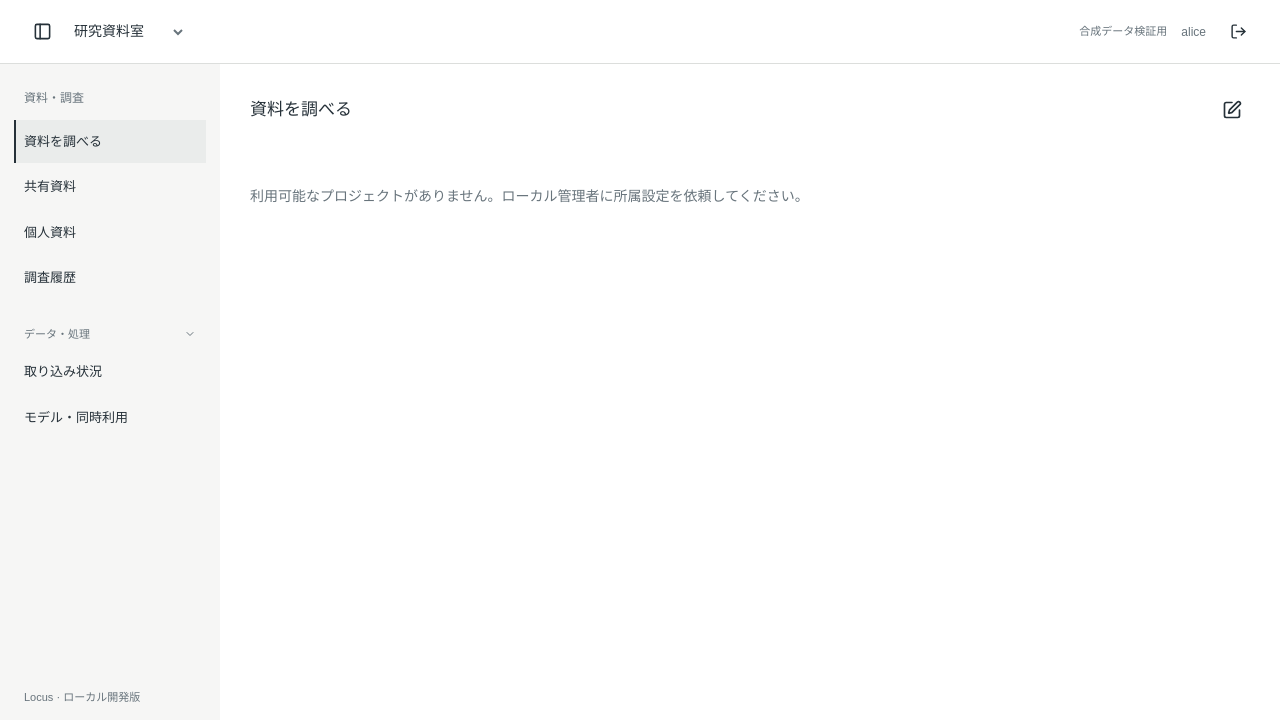
Test: approved chat interaction baseline › preserves the sidebar control and excludes collapsed navigation from focus
The image size is (1280, 720).
Check: the heading "資料を調べる" is shown, box [250,97,352,123]
Step 1. Click the button named "サイドバーを閉じる" → [42, 32], box [24,14,60,50]
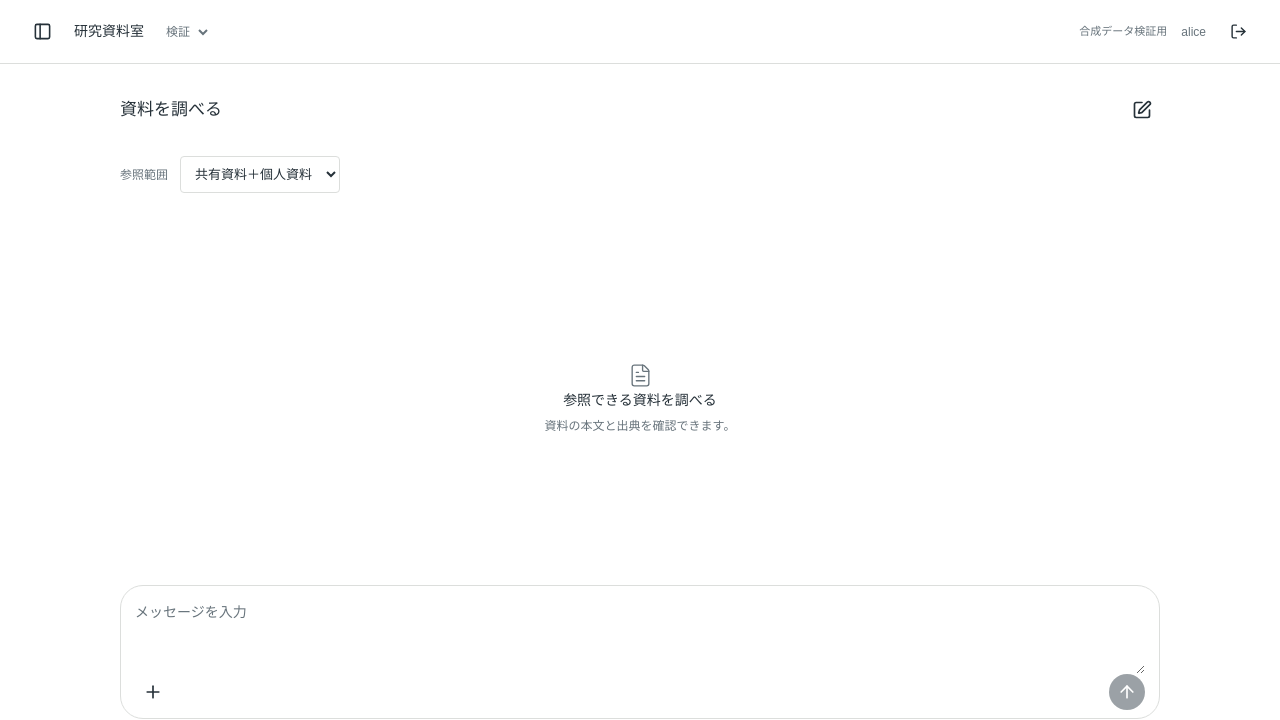
Step 2. Click the button named "サイドバーを開く" → [42, 32], box [24,14,60,50]
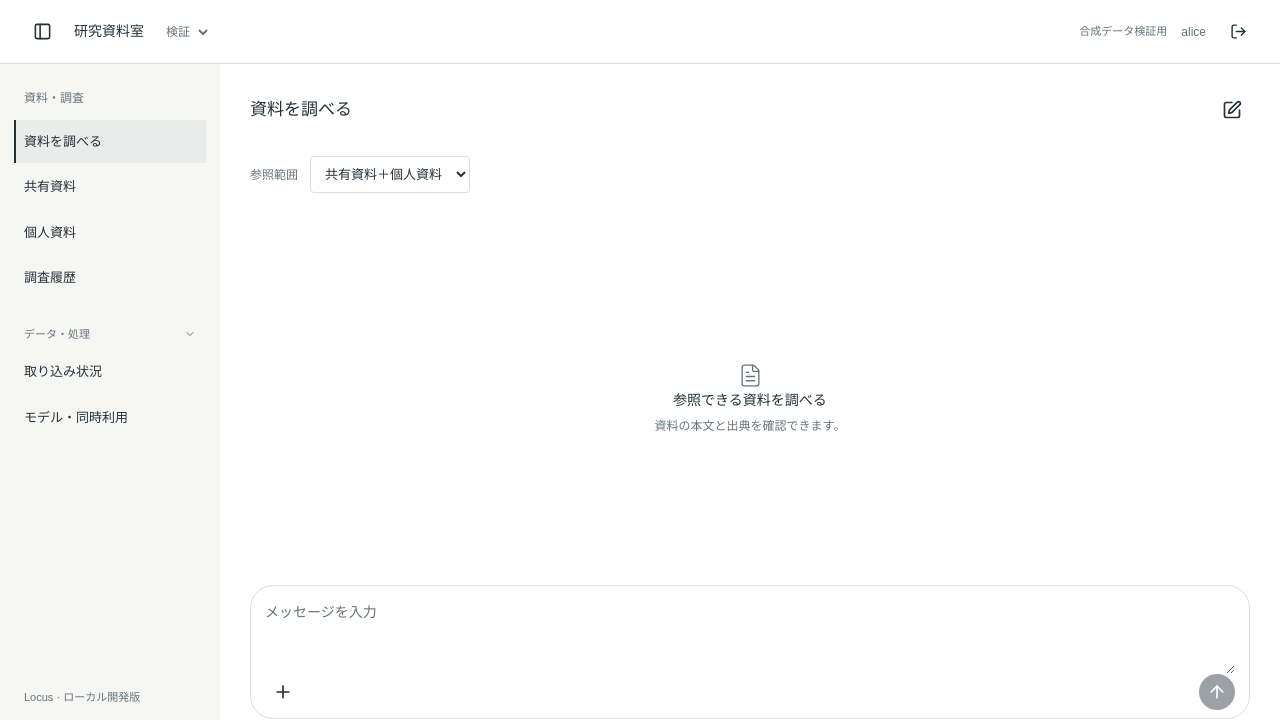
Check: the button "個人資料" is shown, box [14,211,206,254]
